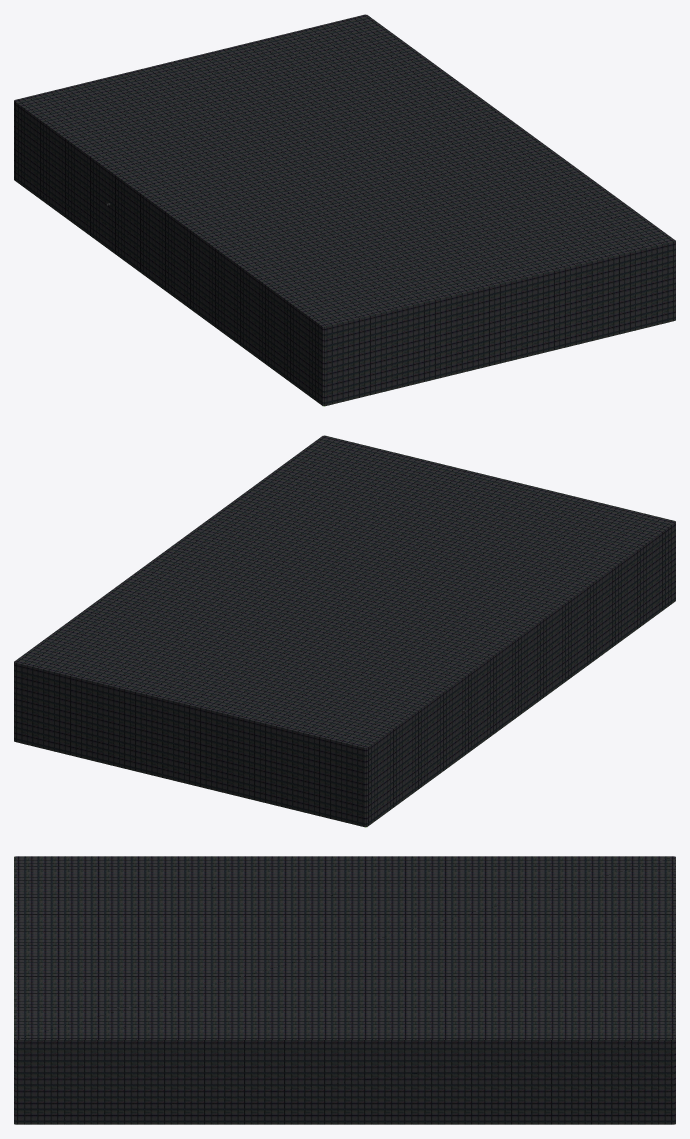
File: background_mobile.glb
3 views of the same model, one above another, from view 1: azimuth 30°, elevation 25°; view 2: azimuth 150°, elevation 25°; view 3: azimuth 270°, elevation 25° (orthographic). The views are drawn at different scales.
Parts seen in each view (by area): view 1: BG_Factory_Shell; view 2: BG_Factory_Shell; view 3: BG_Factory_Shell.
Boxes of the visible parts, x1,y1,x2,y2 form: BG_Factory_Shell: (14,14,675,406); BG_Factory_Shell: (14,435,675,827); BG_Factory_Shell: (14,856,675,1124).
Bounding box in the file's own units: 329 × 71 × 496.
4 materials, 4 textured.
